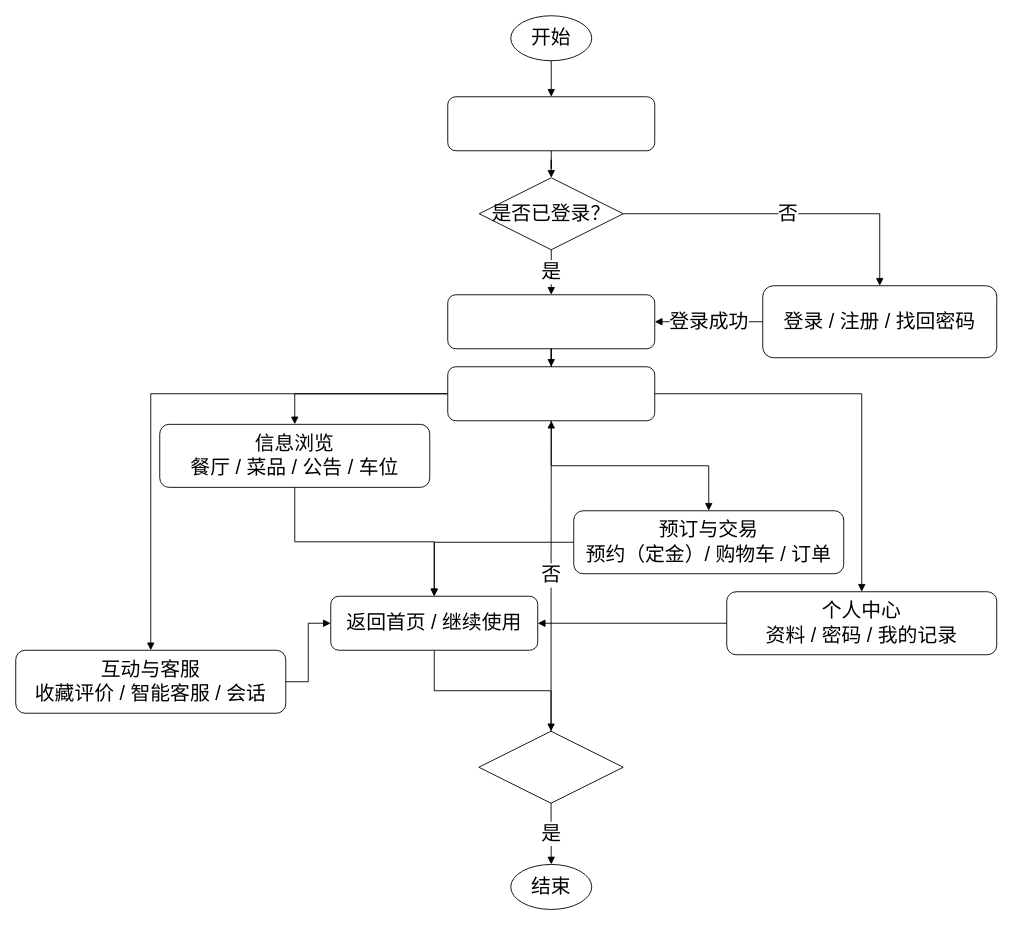
This 1013x925 diagram has some shape labels left out. The centre of each missing label's shape, as x and y in pixels:
"是否退出登录？" goes at pixel 550 766.
"访问用户端系统" goes at pixel 551 123.
"进入首页" goes at pixel 551 321.
"选择功能模块" goes at pixel 551 393.
